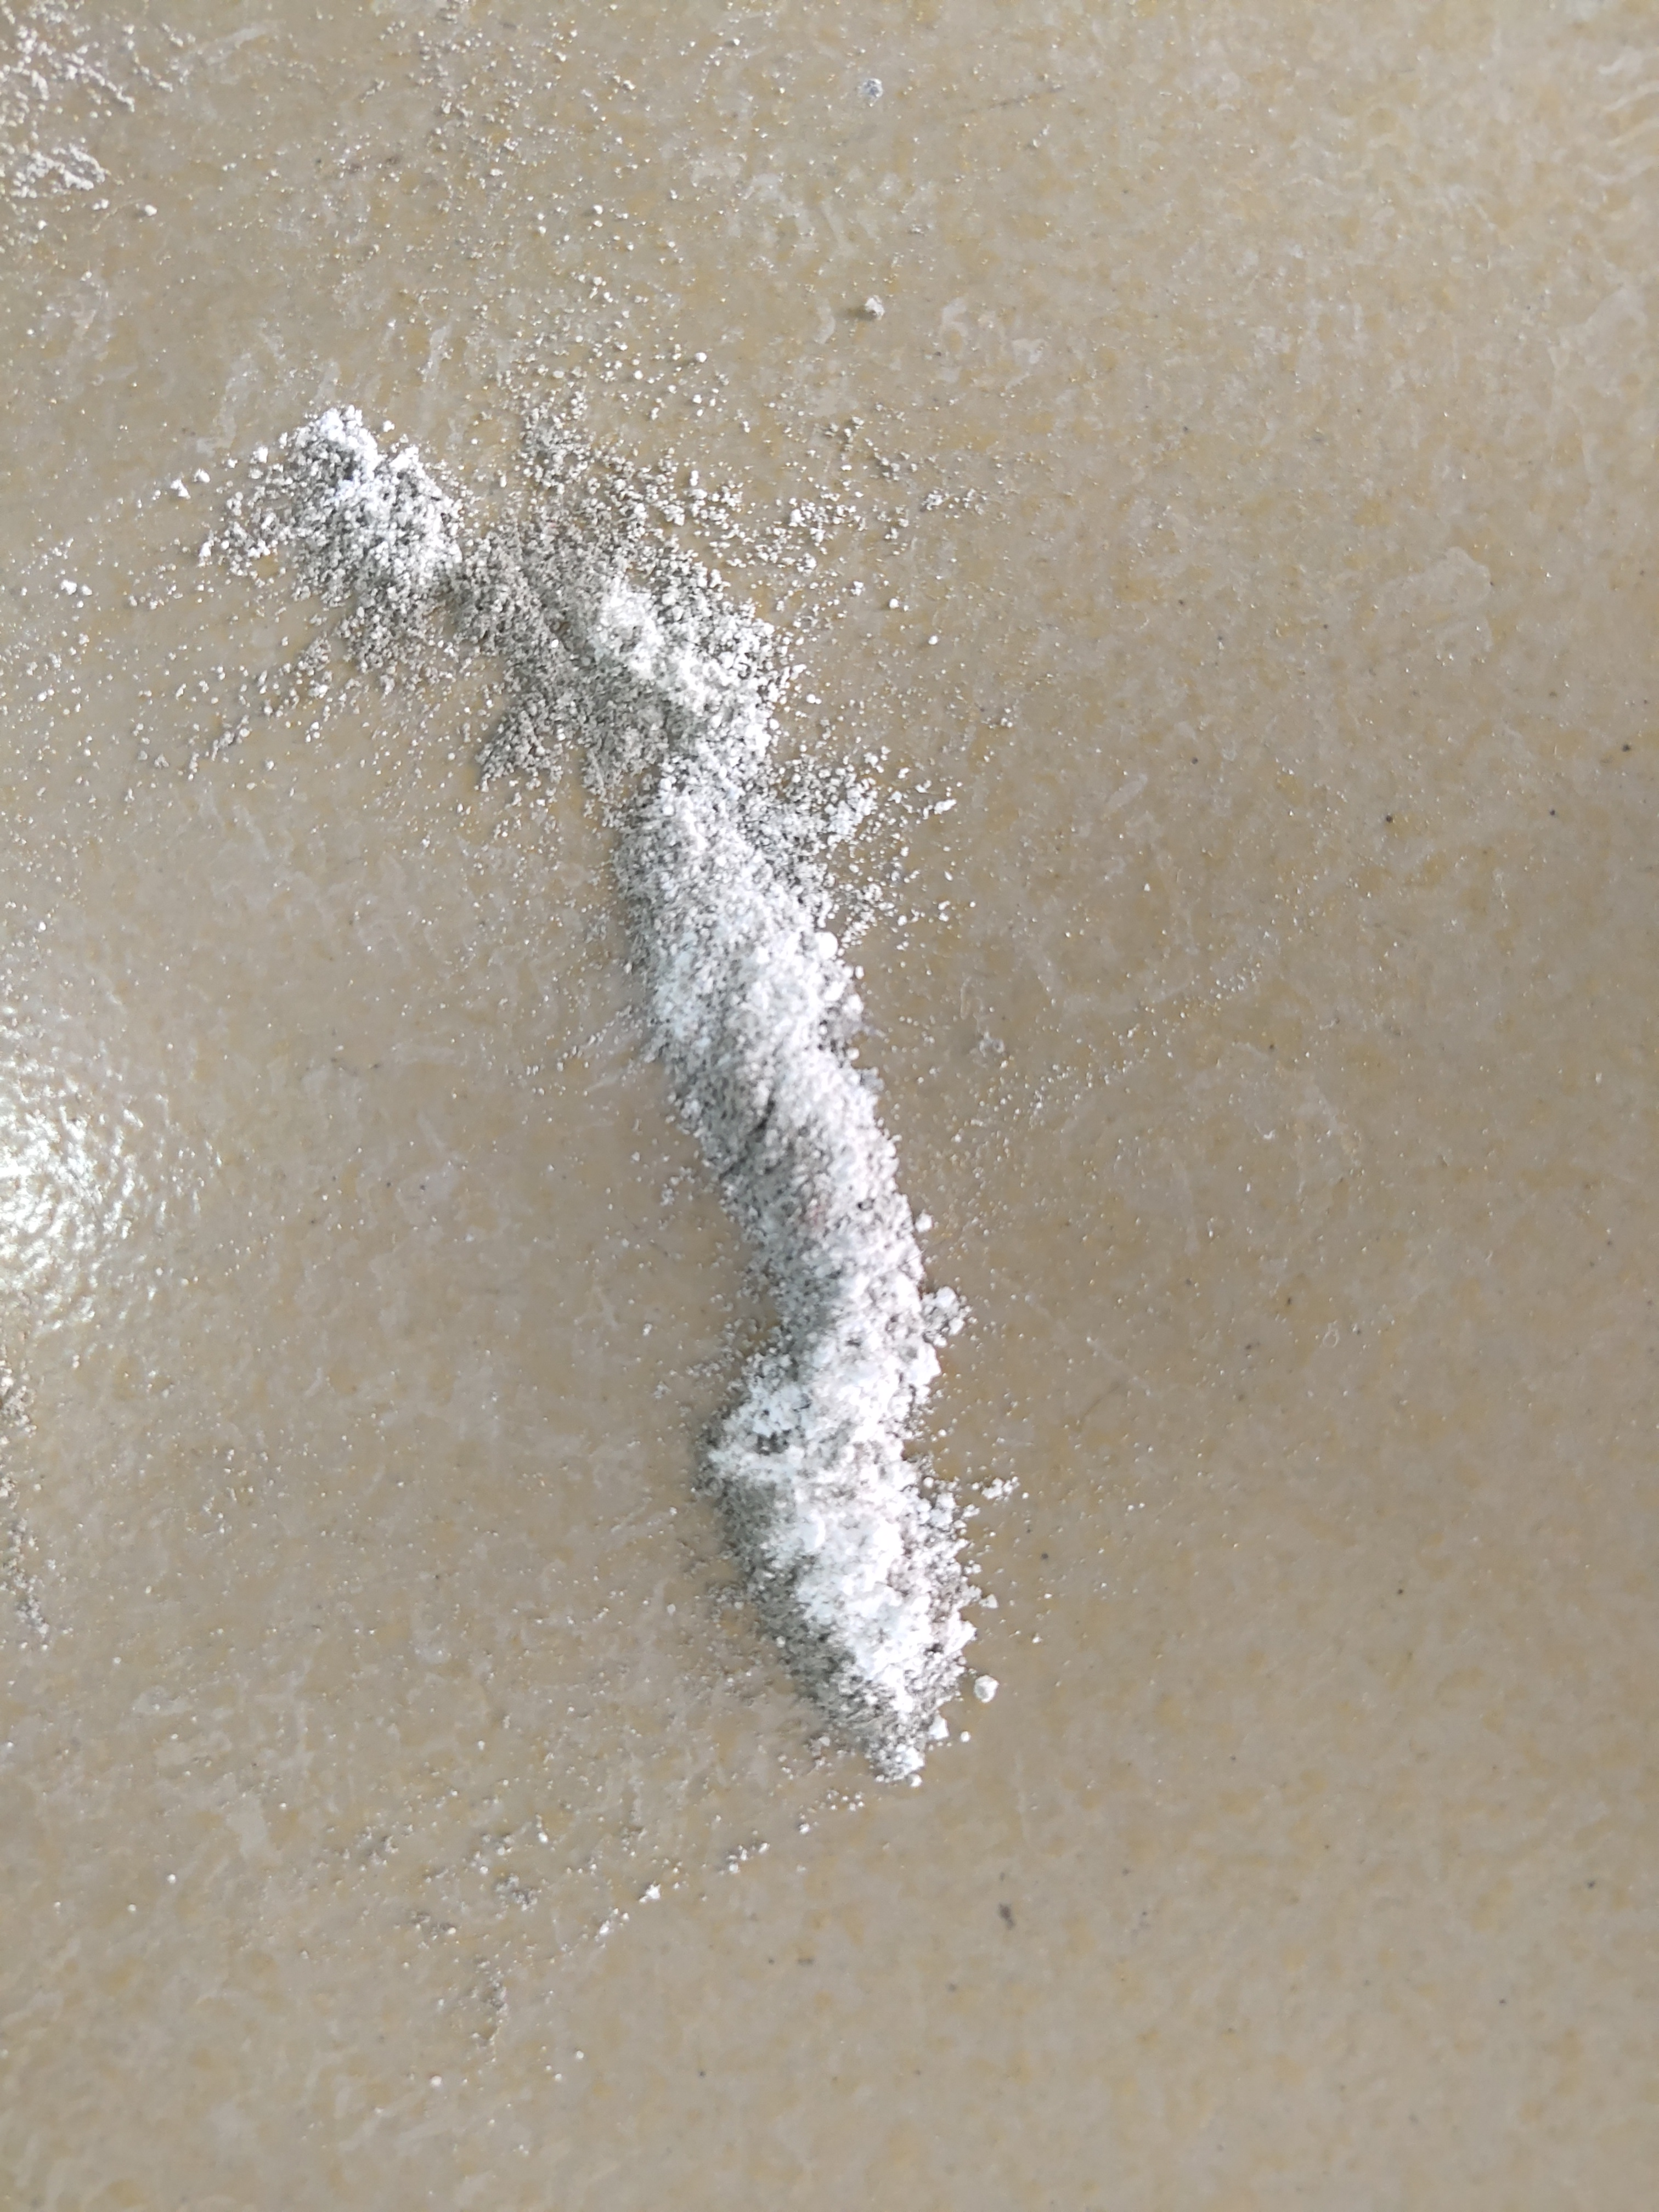ash pile: (200, 401, 1009, 1791)
reflection: (0, 1087, 153, 1306)
